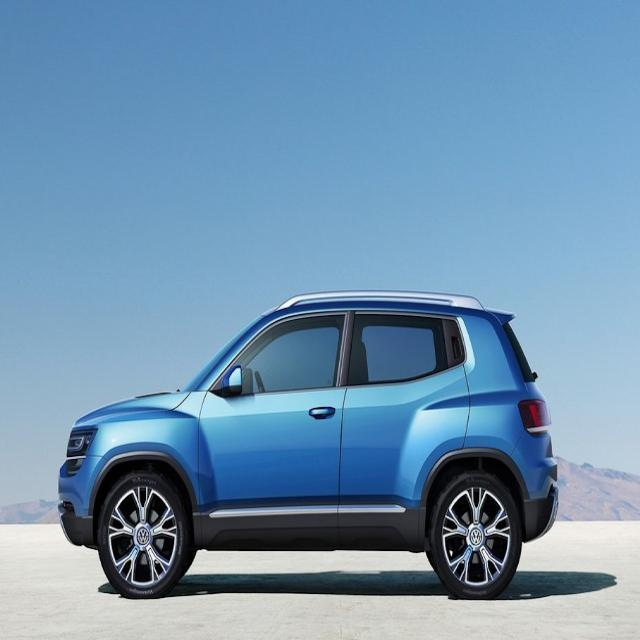back_left_side_light: (518, 396, 552, 438)
door: (343, 307, 471, 530)
front_bumper: (57, 453, 109, 549)
front_left_side_door: (196, 302, 356, 534)
front_left_side_light: (64, 423, 99, 472)
front_left_side_mirror: (220, 364, 247, 402)
rear_bumper: (512, 433, 560, 541)
wheel: (102, 472, 186, 599), (435, 472, 519, 599)
